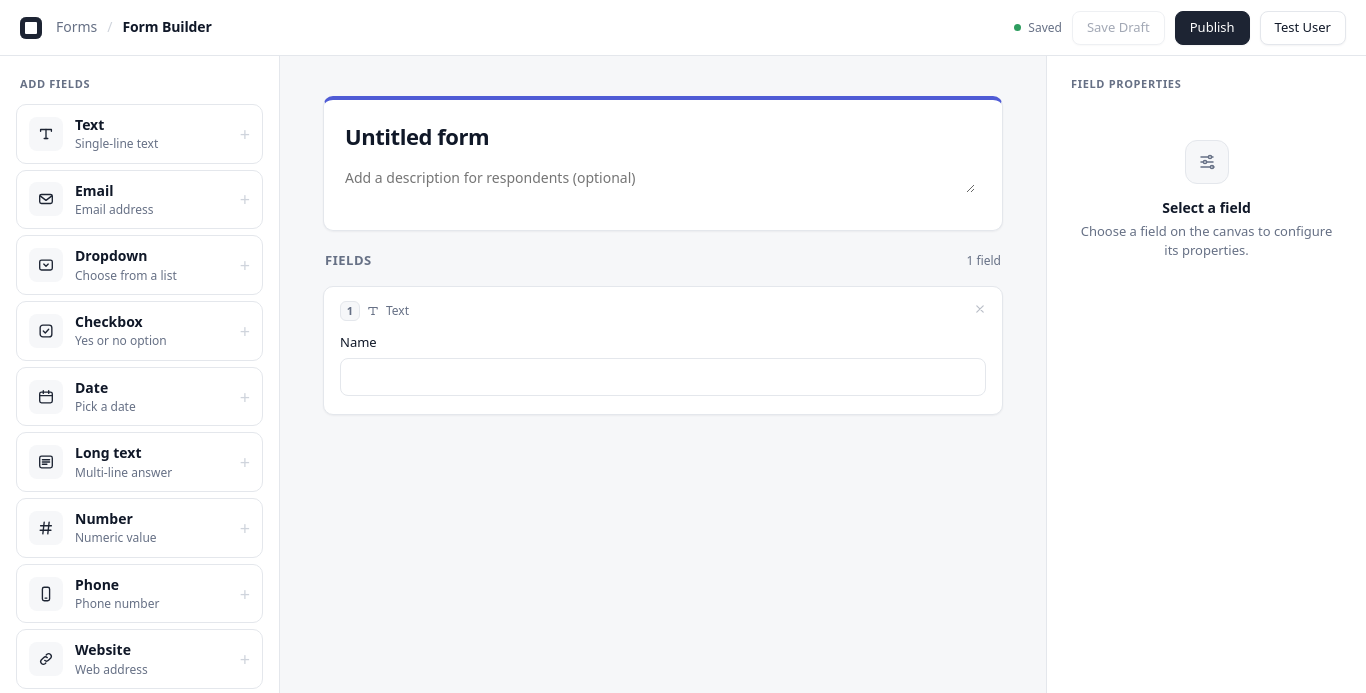
it: failures › shows the failure state and keeps the local changes
Click the button named "Select Name" at point(663, 350), box [324, 287, 1002, 414]
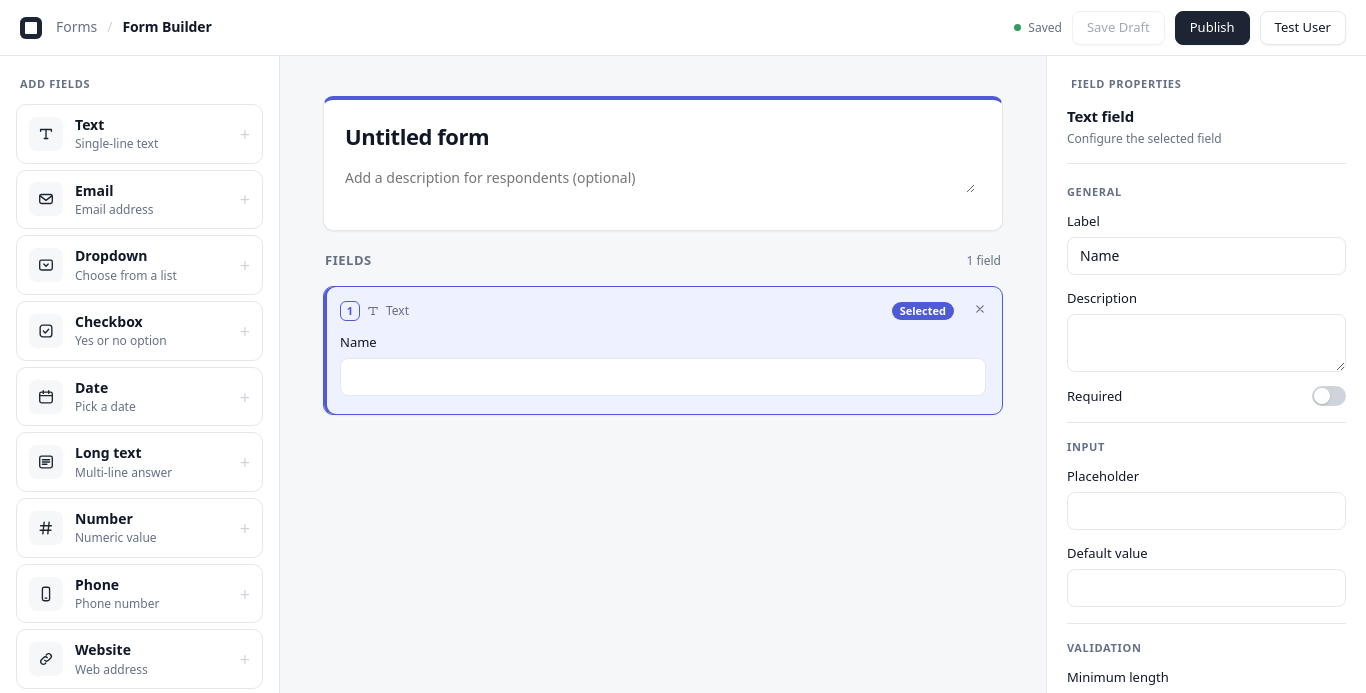
Replace the text in the field labelled "Label" with "Name!" at point(1206, 256), box [1067, 237, 1346, 275]
Wait 750 ms
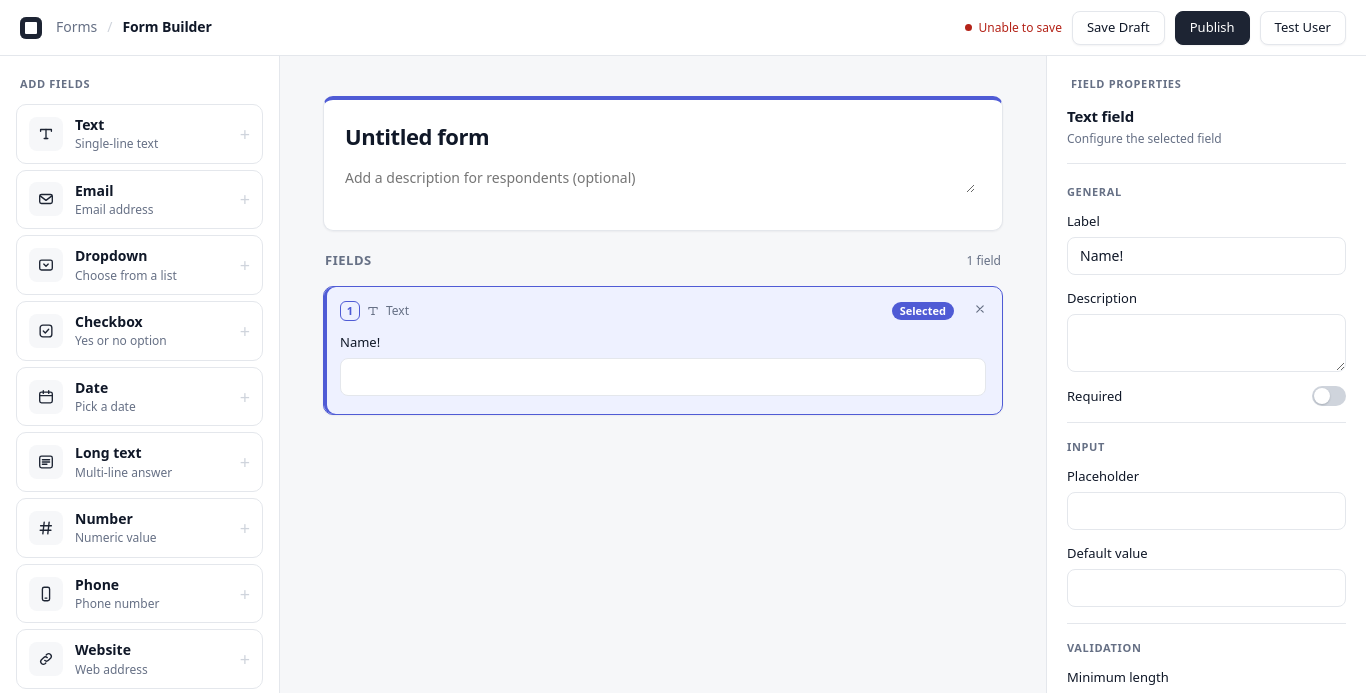
Expected: the field labelled "Name!" is shown, [340, 358, 986, 396]
Expected: the message reads "Unable to save", [979, 19, 1062, 36]
